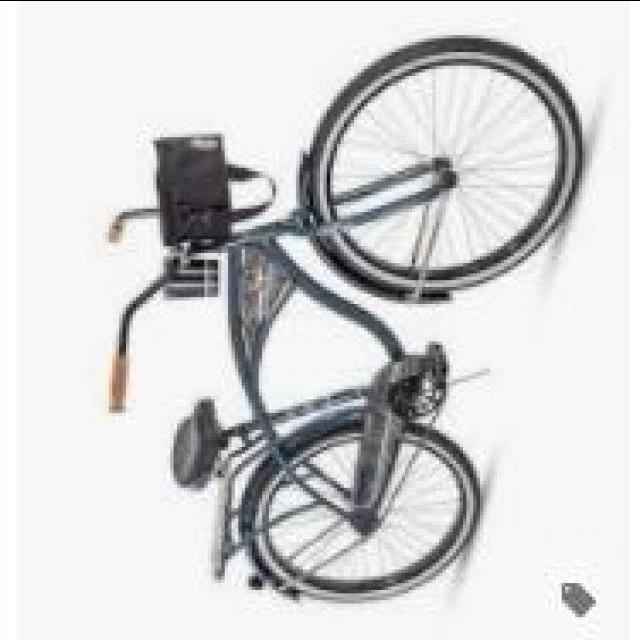bicycle: (134, 45, 610, 617)
